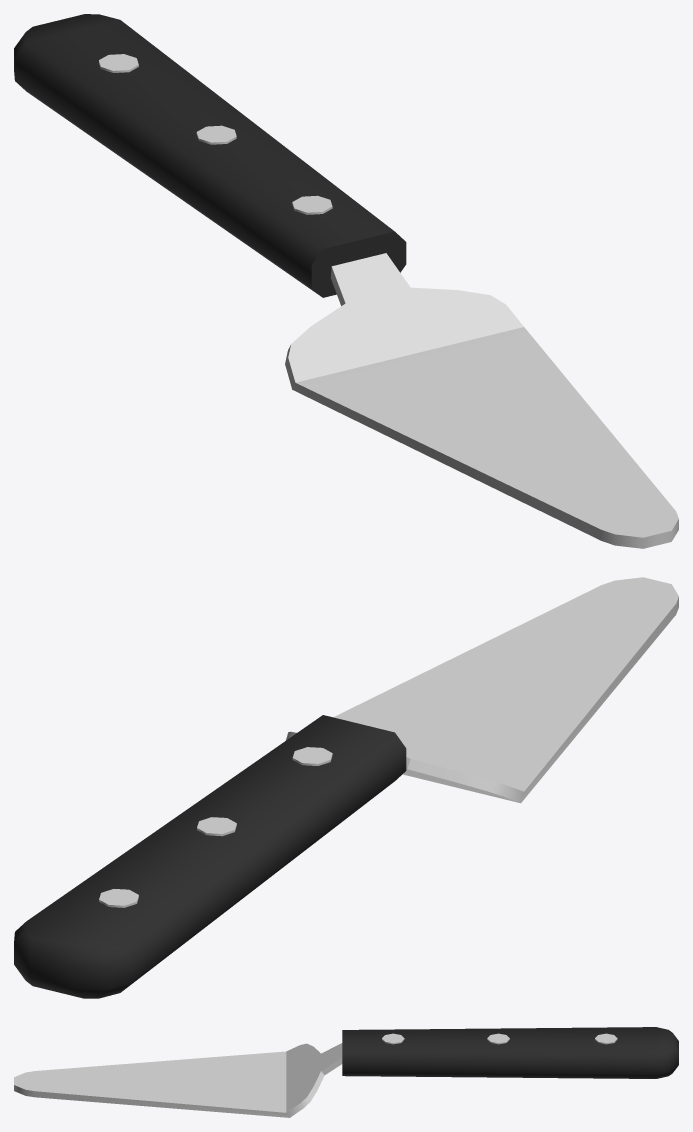
The model's file is CakeSpatula_01.fbx.
The picture shows the model from 3 angles, top to bottom: view 1: azimuth 30°, elevation 25°; view 2: azimuth 150°, elevation 25°; view 3: azimuth 270°, elevation 25°; orthographic projection. The views are drawn at different scales.
Parts seen in each view (by area): view 1: CakeSpatula_01; view 2: CakeSpatula_01; view 3: CakeSpatula_01.
Part boxes in pixels (x1,y1,x2,y2): CakeSpatula_01: (14,14,678,548); CakeSpatula_01: (14,577,678,998); CakeSpatula_01: (14,1027,678,1117).
Bounding box in the file's own units: 0.0457 × 0.0169 × 0.2092.
